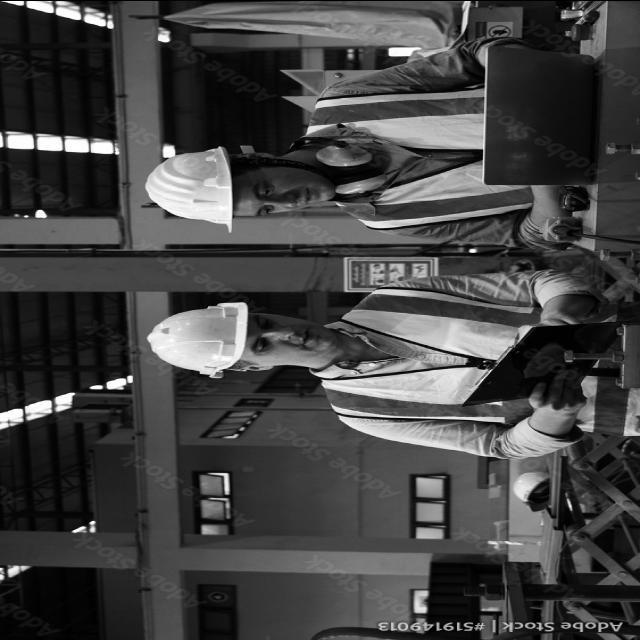safety_helmet: (148, 299, 251, 378), (147, 143, 236, 229)
